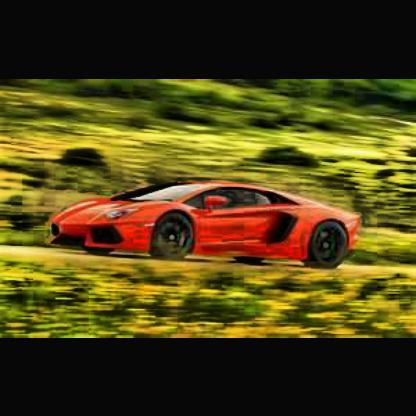Lamborghini Aventador Coupe 2012: (56, 180, 363, 268)
